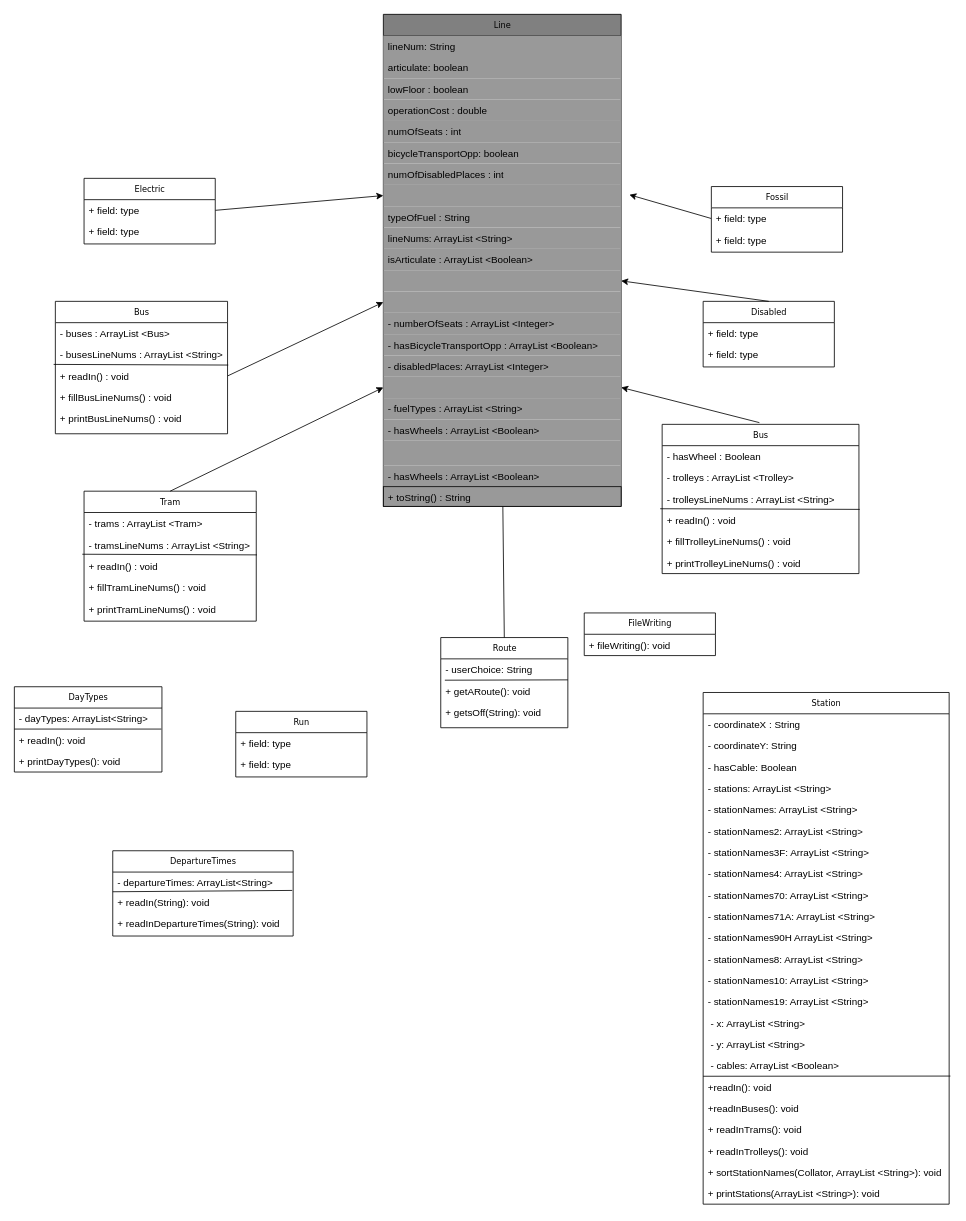
Some shapes in this 966 by 1221 pixel diagram are drawn without their labels. Here are the shapes that lost their labels. From the top down, the centre of each, then its label:
At [502,195]: "needToRepair : boolean".
At [502,280]: "- isLowFloor : ArrayList <Boolean>".
At [502,301]: "- operationCosts : ArrayList <Double>".
At [502,387]: "- needsToRepair : ArrayList <Boolean>".
At [502,452]: "- typeOfVehicles : ArrayList <String>".
